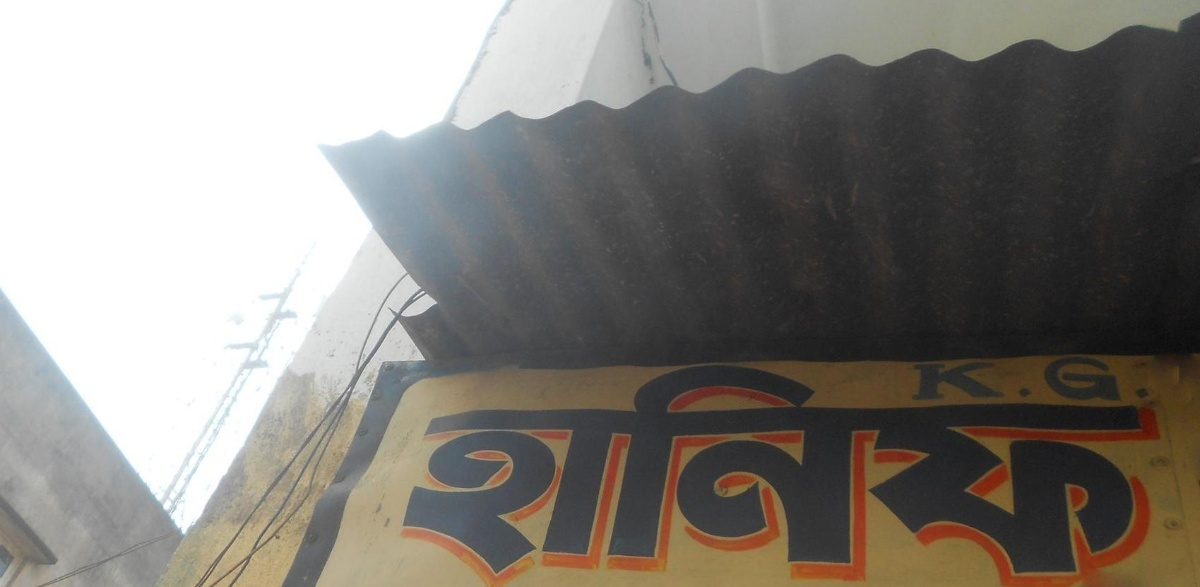text: (433, 333, 448, 585), (449, 333, 464, 585), (465, 333, 480, 585), (481, 333, 496, 585), (497, 333, 512, 585), (513, 333, 528, 585), (529, 333, 544, 585), (545, 333, 560, 585), (561, 333, 576, 585), (577, 333, 592, 585), (593, 333, 608, 585), (609, 333, 624, 585), (625, 333, 640, 585), (641, 333, 656, 585), (657, 333, 672, 585), (673, 333, 688, 585), (689, 333, 704, 585), (705, 333, 720, 585), (721, 333, 736, 585), (737, 333, 752, 585), (753, 333, 768, 585), (769, 333, 784, 585), (785, 333, 800, 585), (801, 333, 816, 585), (817, 333, 832, 585), (833, 333, 848, 585), (849, 333, 864, 585), (865, 333, 880, 585), (881, 333, 896, 585), (897, 333, 912, 585), (913, 333, 928, 585), (929, 333, 944, 585), (945, 333, 960, 585), (961, 333, 976, 585), (977, 333, 992, 585), (993, 333, 1008, 585), (1009, 333, 1024, 585), (1025, 333, 1040, 585), (1041, 333, 1056, 585), (1057, 333, 1072, 585), (1073, 333, 1088, 585), (1089, 333, 1104, 585), (1105, 333, 1120, 585), (1121, 333, 1136, 585), (1137, 333, 1152, 585), (424, 333, 432, 585), (897, 352, 912, 406), (913, 352, 928, 406), (929, 352, 944, 406), (945, 352, 960, 406), (961, 352, 976, 406), (977, 352, 992, 406), (993, 352, 1008, 406), (1009, 352, 1024, 406), (1025, 352, 1040, 406), (1041, 352, 1056, 406), (1057, 352, 1072, 406), (1073, 352, 1088, 406), (1089, 352, 1104, 406), (1105, 352, 1120, 406), (1121, 352, 1136, 406), (1137, 352, 1152, 406), (1153, 333, 1155, 585), (893, 352, 896, 406)
